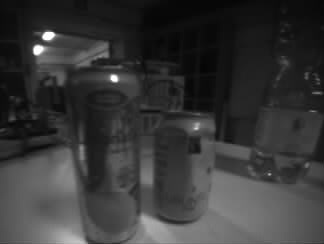Bottle: (245, 1, 324, 186)
Tin can: (65, 66, 145, 244), (152, 110, 216, 226)
